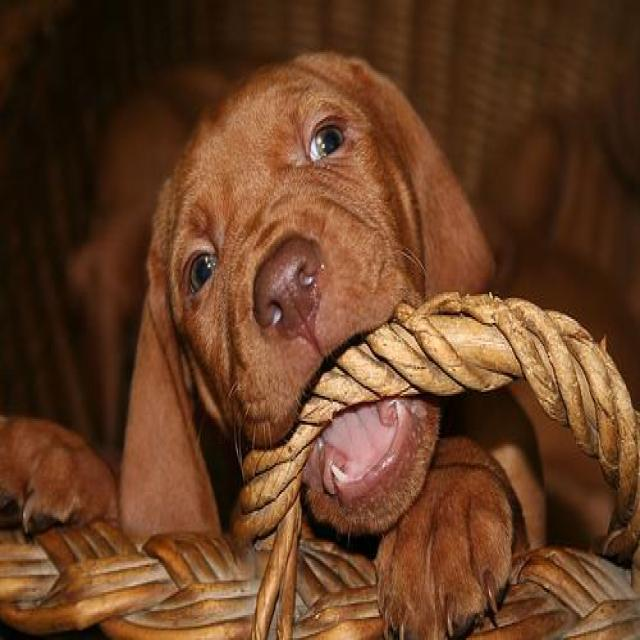vizsla: (0, 40, 553, 638)
